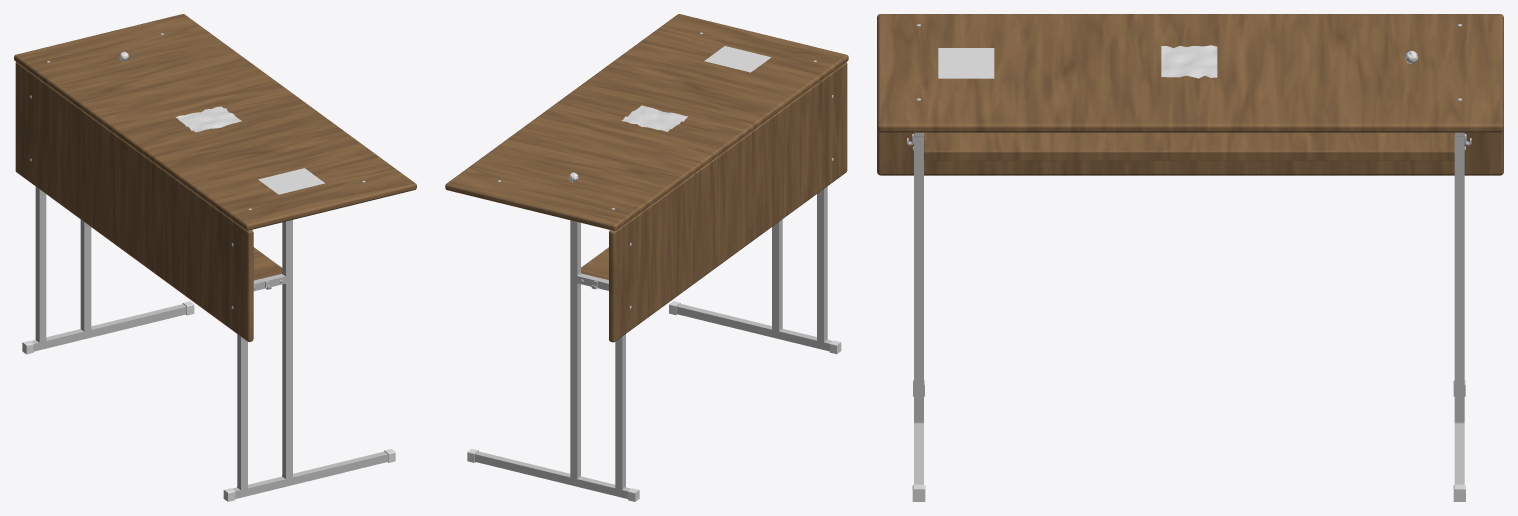
File: School desk.fbx
3 renders of one model, left to right at view 1: azimuth 30°, elevation 25°; view 2: azimuth 150°, elevation 25°; view 3: azimuth 270°, elevation 25°, orthographic. The views are drawn at different scales.
Parts seen in each view (by area): view 1: Desk, Paper crumpled, Paper; view 2: Desk, Paper, Paper crumpled; view 3: Desk, Paper crumpled, Paper.
Boxes of the visible parts, x1,y1,x2,y2 form: Desk: (14,14,416,501); Paper crumpled: (175,106,241,132); Paper: (258,168,324,194); Desk: (445,14,848,501); Paper: (704,46,770,72); Paper crumpled: (621,105,687,131); Desk: (877,14,1503,501); Paper crumpled: (1161,45,1217,78); Paper: (938,48,994,78).
Bounding box in the file's own units: 48.4 × 77.17 × 111.
